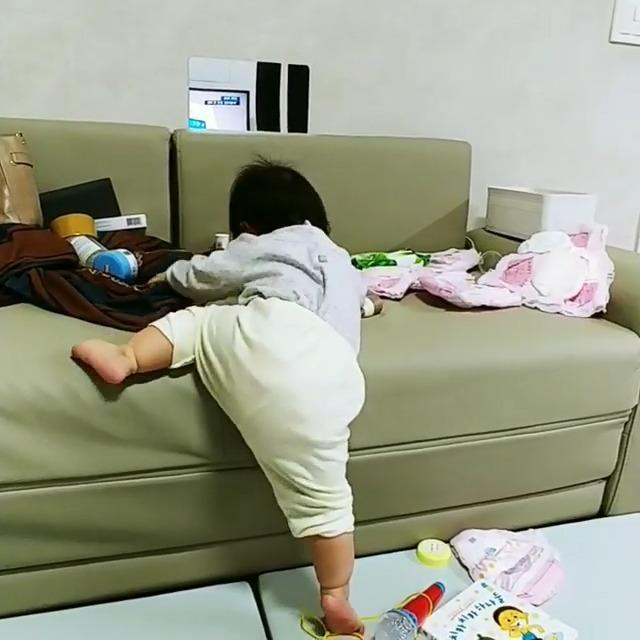child: (68, 162, 371, 636)
